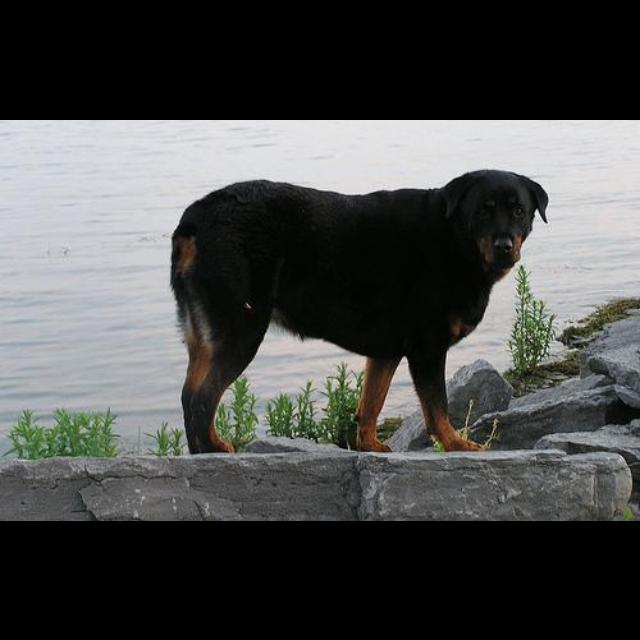rottweiler: (169, 168, 550, 454)
